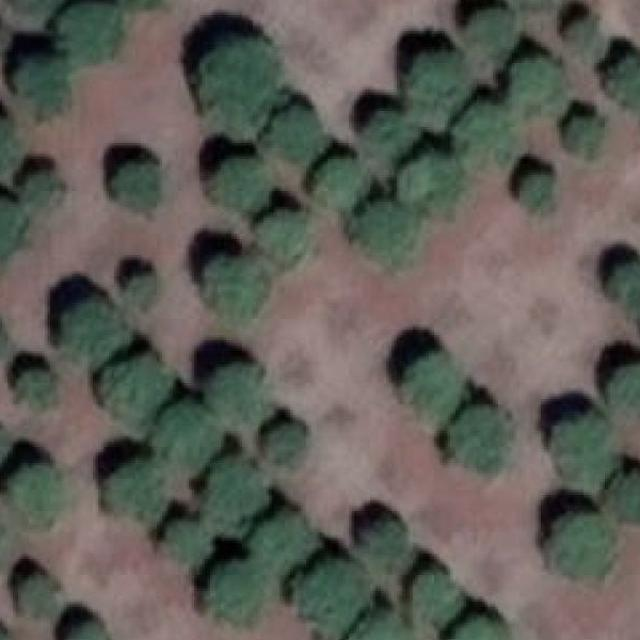Tree: (199, 38, 287, 128), (92, 463, 170, 540), (548, 502, 623, 580), (98, 354, 181, 424), (396, 354, 474, 426), (292, 557, 368, 630), (242, 506, 321, 575), (197, 253, 271, 326), (146, 399, 218, 470), (546, 413, 622, 480), (8, 461, 74, 538), (445, 407, 513, 476), (5, 47, 72, 116), (61, 292, 129, 358), (406, 50, 472, 117), (200, 354, 266, 420), (352, 207, 416, 270), (504, 50, 566, 115), (208, 562, 266, 631), (66, 6, 130, 68), (202, 454, 264, 516), (258, 207, 318, 267), (395, 148, 453, 209), (359, 511, 413, 576), (208, 154, 271, 207), (459, 106, 518, 162), (114, 162, 173, 216), (260, 111, 323, 161), (466, 7, 523, 60), (359, 109, 415, 161), (317, 157, 368, 212), (162, 519, 212, 575), (410, 573, 460, 627), (0, 194, 33, 271), (336, 609, 415, 640), (602, 359, 640, 422), (602, 260, 640, 322), (13, 358, 60, 408), (20, 165, 70, 212), (602, 468, 640, 527), (562, 15, 610, 61), (268, 430, 314, 476), (122, 274, 168, 319), (562, 111, 601, 158), (608, 55, 640, 112), (517, 170, 557, 214), (11, 564, 51, 607), (444, 617, 515, 640), (61, 615, 114, 640), (2, 0, 74, 17), (114, 0, 187, 13), (0, 109, 12, 173), (509, 0, 573, 7), (0, 319, 10, 359)
